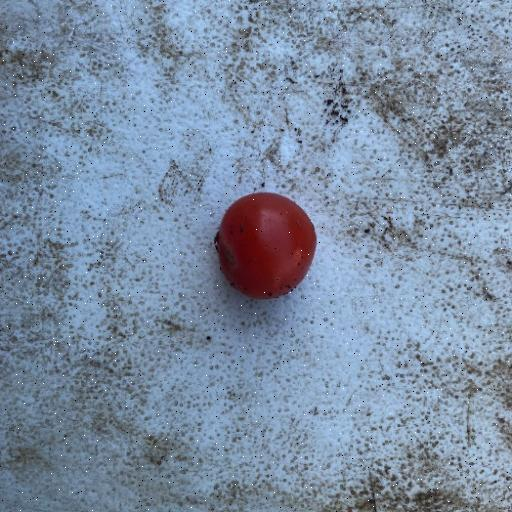Waste: (1, 1, 510, 510), (212, 190, 318, 300)
